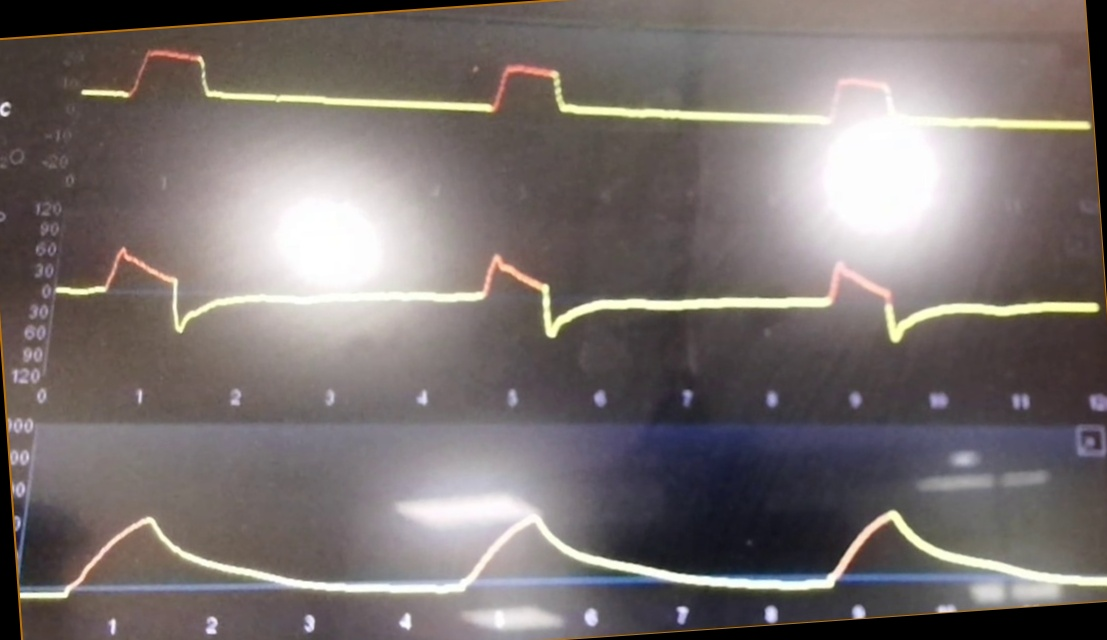Normal Flow: (54, 211, 1098, 381)
Normal Volume: (23, 491, 1107, 602)
